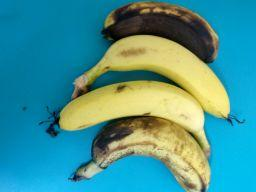banana: (70, 33, 248, 127), (37, 79, 213, 159), (66, 113, 212, 192), (102, 0, 221, 66)
